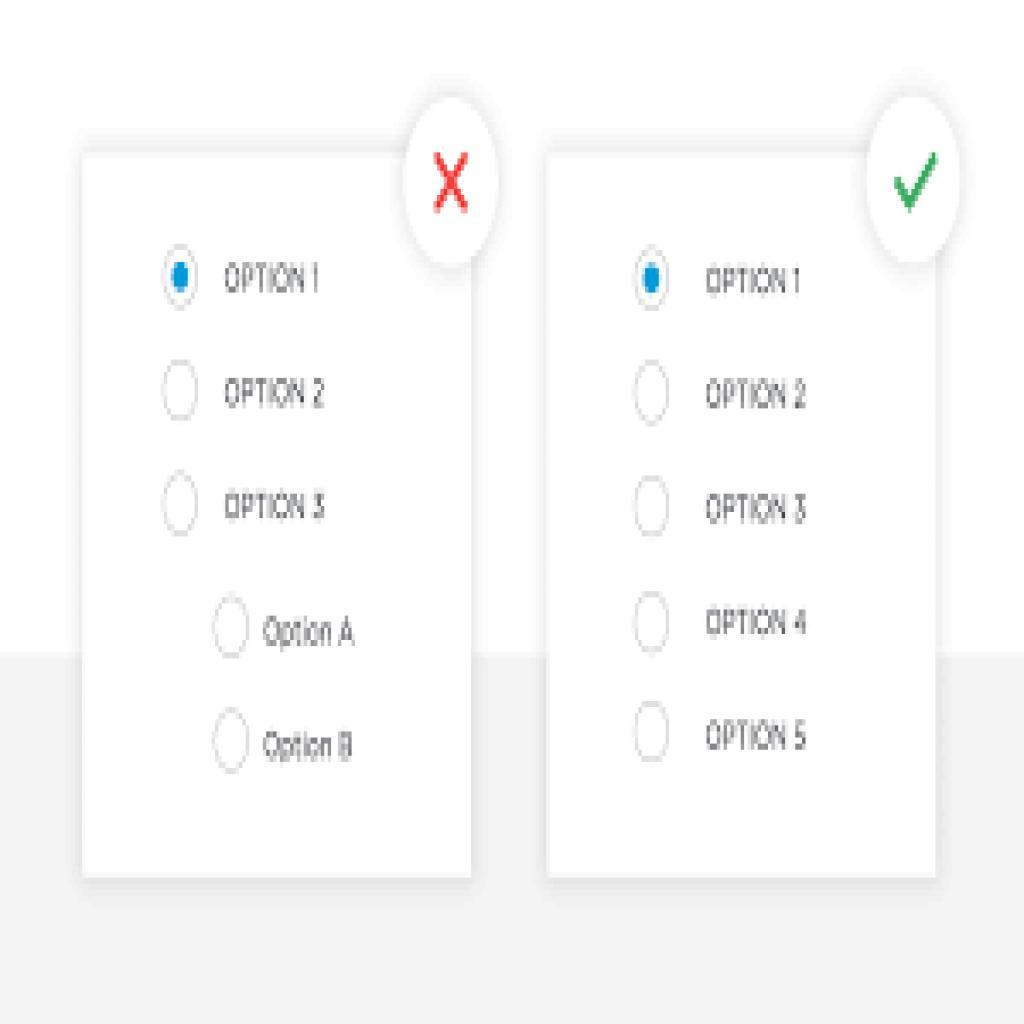radio: (156, 360, 205, 427), (631, 357, 676, 429), (210, 706, 255, 777), (631, 472, 676, 542), (630, 243, 673, 316), (163, 470, 205, 542), (164, 244, 204, 313), (214, 594, 255, 660), (633, 700, 673, 767), (635, 592, 673, 656)
